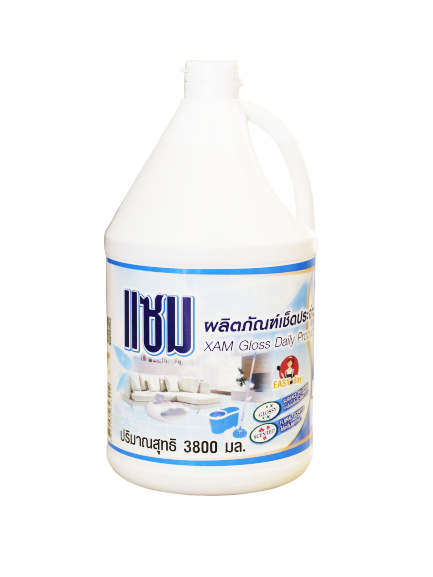Cleaning_solution: (97, 55, 318, 501)
